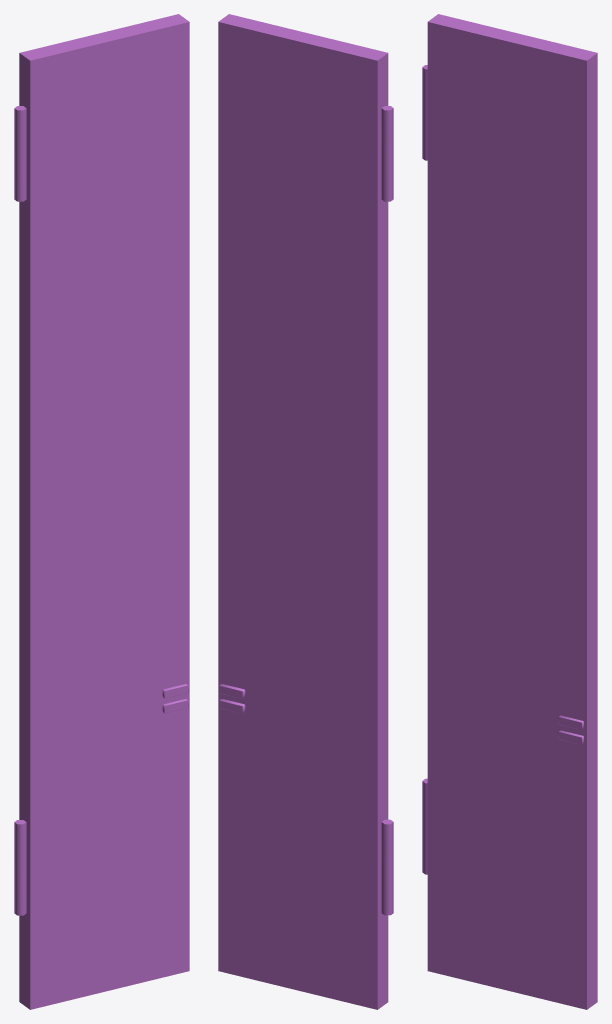
Rendered from Villa2_Door_B.fbx.
3 views of the same model, side by side, from view 1: azimuth 30°, elevation 25°; view 2: azimuth 150°, elevation 25°; view 3: azimuth 330°, elevation 25° (orthographic).
Parts seen in each view (by area): view 1: Villa2_Door_B; view 2: Villa2_Door_B; view 3: Villa2_Door_B.
Boxes of the visible parts, x1=… form: Villa2_Door_B: x1=14, y1=14, x2=189, y2=1009; Villa2_Door_B: x1=218, y1=14, x2=393, y2=1009; Villa2_Door_B: x1=422, y1=14, x2=597, y2=1009.
Size of the model in its own units: 0.9027 by 4.86 by 0.137.
